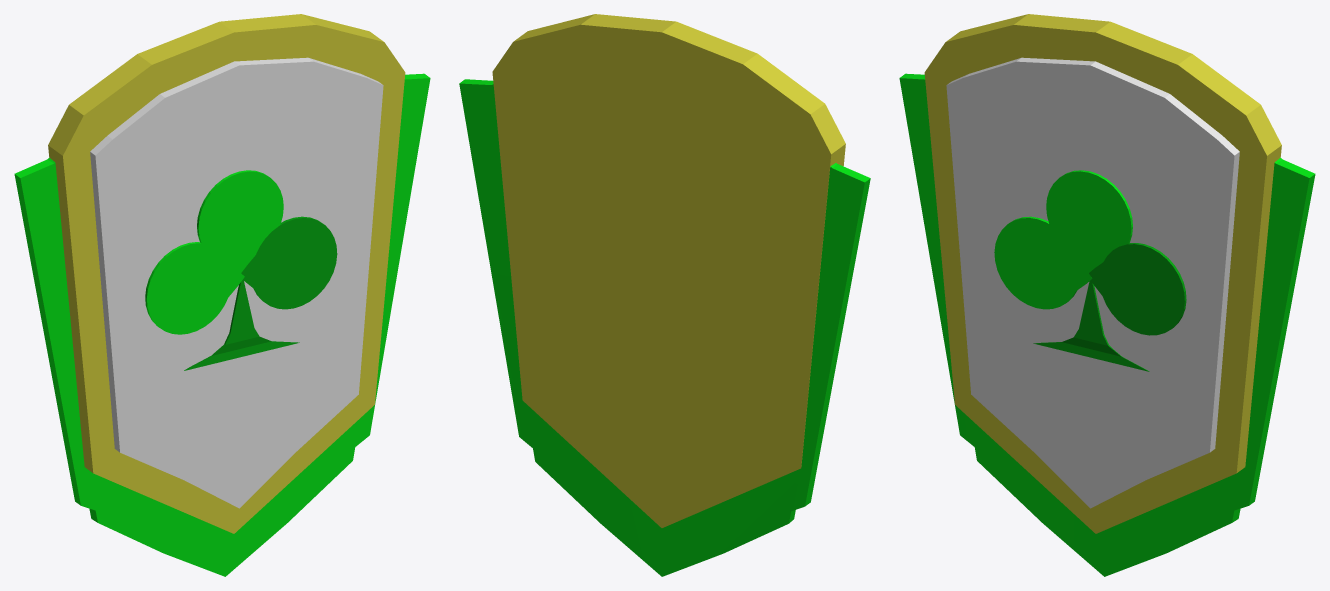
The model's file is Shield_White_1.fbx.
3 views of the same model, side by side, from view 1: azimuth 30°, elevation 25°; view 2: azimuth 150°, elevation 25°; view 3: azimuth 330°, elevation 25° (orthographic).
Parts seen in each view (by area): view 1: Cube.012, Cube.015, Cube.014, Cylinder.008, Cylinder.007, Cylinder.006, Cube.013; view 2: Cube.015, Cube.014; view 3: Cube.012, Cube.015, Cube.014, Cylinder.007, Cylinder.008, Cylinder.006, Cube.013.
Part boxes in pixels (x1,y1,x2,y2): Cube.012: (90,57,383,508); Cube.015: (48,14,405,533); Cube.014: (14,73,430,576); Cylinder.008: (145,242,244,334); Cylinder.007: (241,216,337,309); Cylinder.006: (197,170,283,272); Cube.013: (184,280,299,370); Cube.015: (492,14,845,527); Cube.014: (459,79,870,576); Cube.012: (946,57,1239,508); Cube.015: (924,14,1281,533); Cube.014: (899,73,1315,576); Cylinder.007: (1089,243,1186,335); Cylinder.008: (994,216,1092,309); Cylinder.006: (1046,170,1132,272); Cube.013: (1033,280,1149,371).
Size of the model in its own units: 614 by 788 by 56.68.
